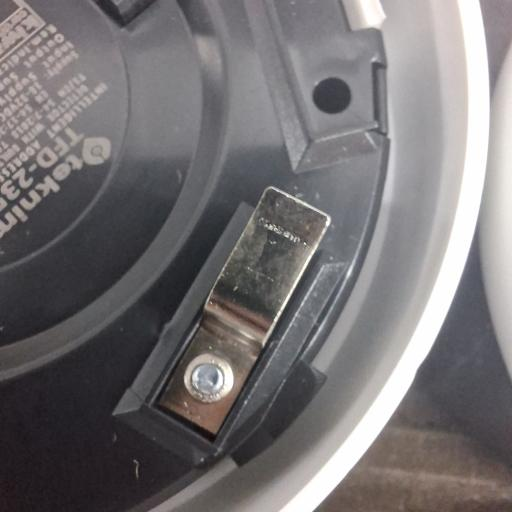yaysiz: (158, 175, 336, 441)
